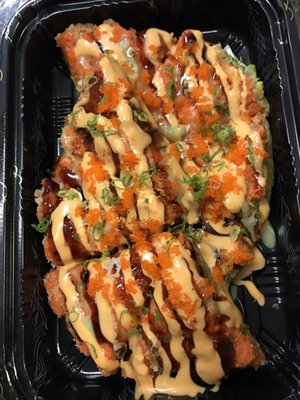sandwich: (31, 8, 283, 395)
